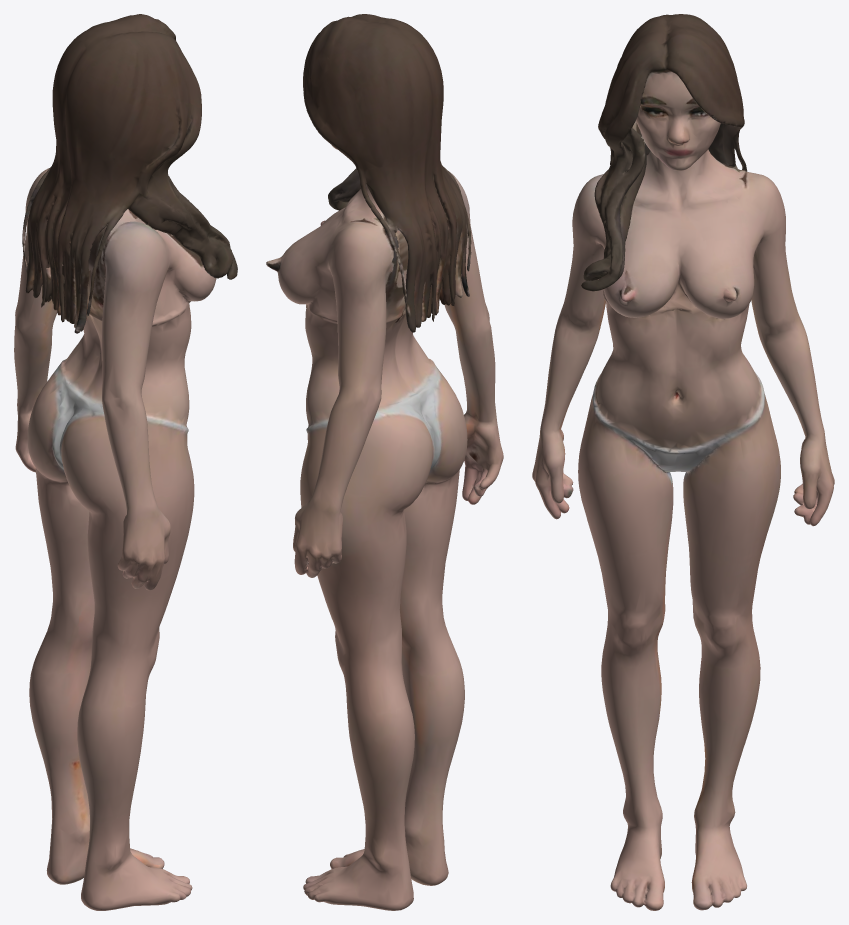
The model's file is feminina-optimized.glb.
3 views of the same model, side by side, from view 1: azimuth 30°, elevation 25°; view 2: azimuth 150°, elevation 25°; view 3: azimuth 270°, elevation 25° (orthographic).
Parts seen in each view (by area): view 1: tripo_node_336428f9-11bb-44ca-af6b-bf253f6952ae; view 2: tripo_node_336428f9-11bb-44ca-af6b-bf253f6952ae; view 3: tripo_node_336428f9-11bb-44ca-af6b-bf253f6952ae.
Boxes of the visible parts, x1,y1,x2,y2 form: tripo_node_336428f9-11bb-44ca-af6b-bf253f6952ae: (14, 14, 237, 910); tripo_node_336428f9-11bb-44ca-af6b-bf253f6952ae: (266, 14, 503, 910); tripo_node_336428f9-11bb-44ca-af6b-bf253f6952ae: (532, 14, 834, 910).
Bounding box in the file's own units: 0.1842 × 0.9999 × 0.3169.
1 material, 1 textured.
